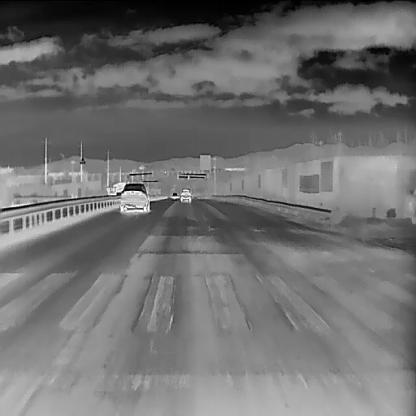car: (118, 182, 150, 210), (178, 187, 192, 201), (172, 192, 178, 199)
truck: (105, 180, 130, 199)
